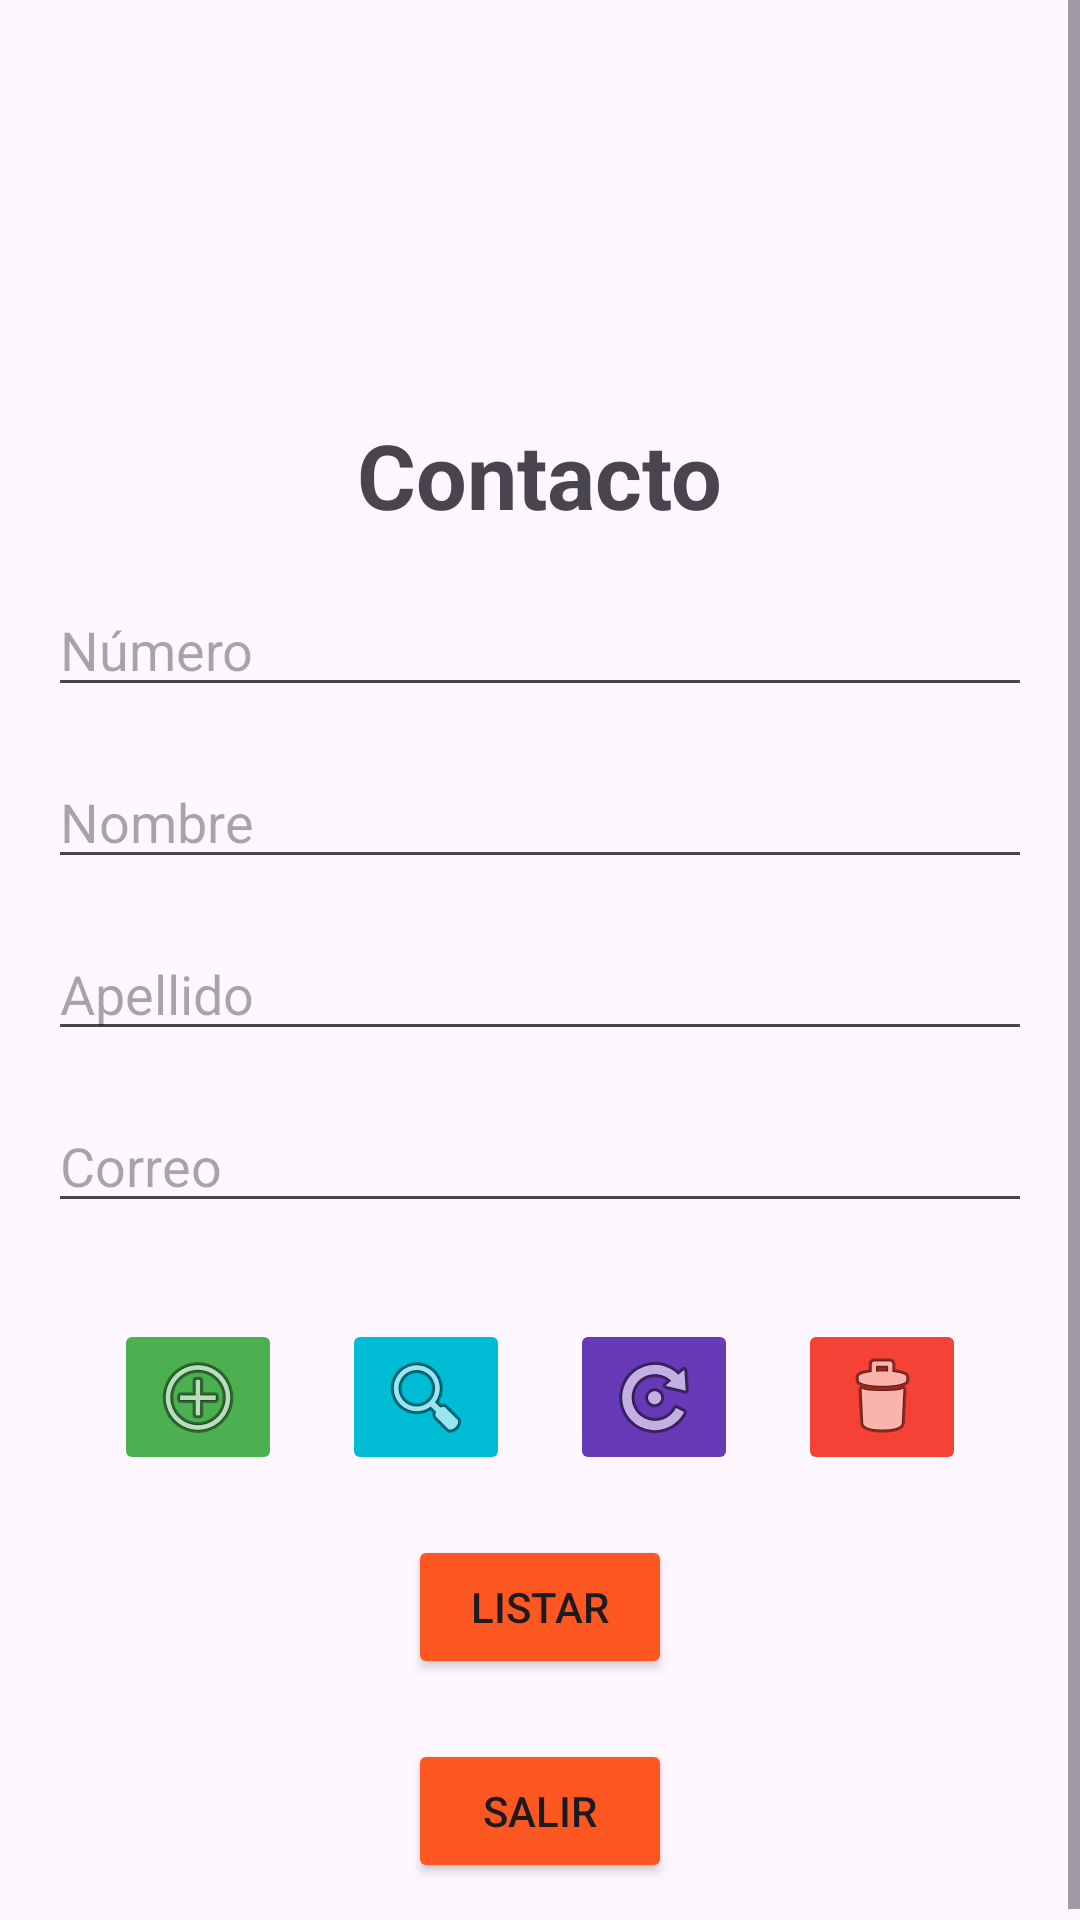

Icons on this 1080w x 1920h Android screen, each with the point to tap as (x,y):
add: (198,1397)
delete: (882,1397)
rotate: (654,1397)
search: (426,1397)
